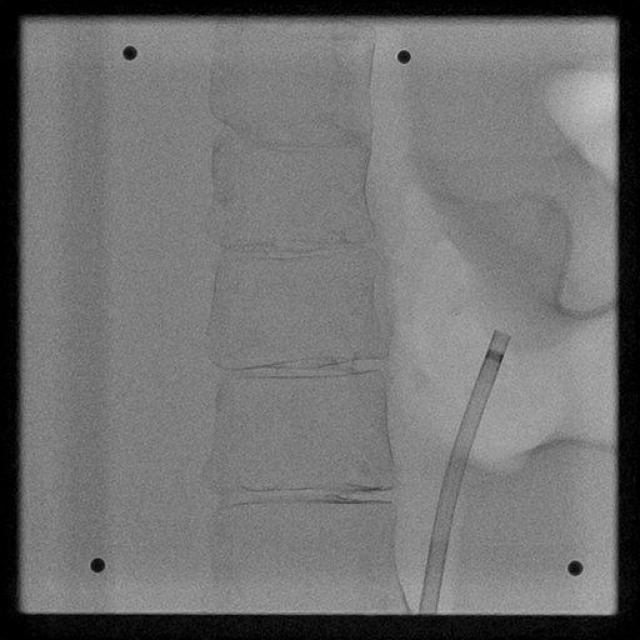bend: (432, 527, 451, 543)
entry: (419, 608, 436, 612)
marker: (484, 347, 504, 363)
tip: (494, 328, 512, 338)
